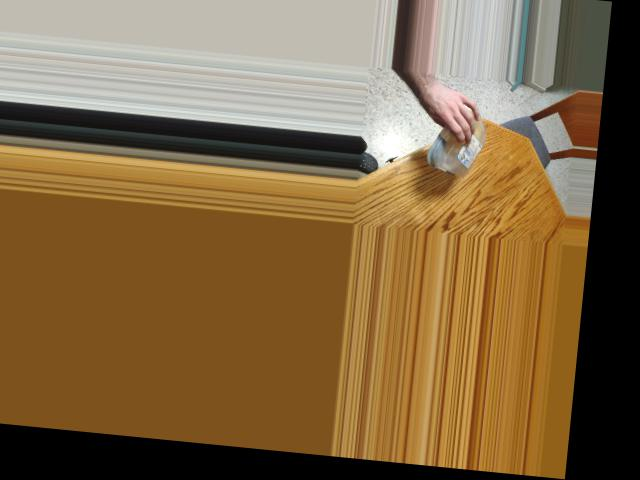cheese: (432, 111, 480, 174)
